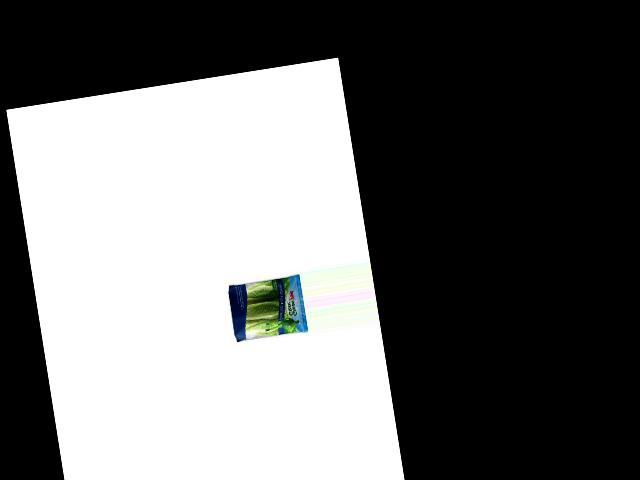lettuce: (223, 274, 305, 345)
